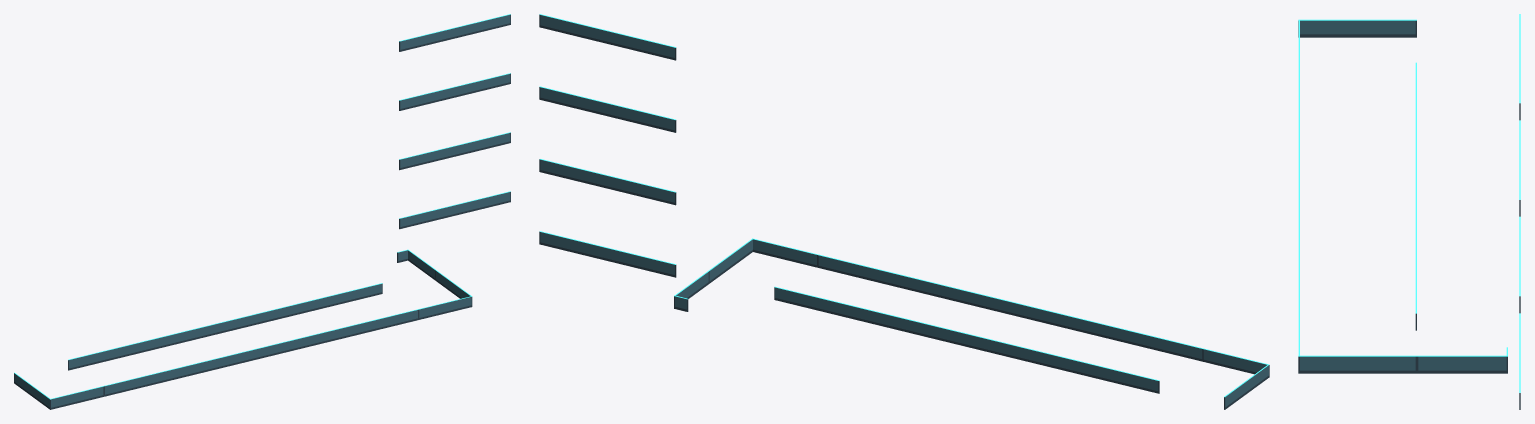
Rendered from v02-detailed-03-07.glb.
The picture shows the model from 3 angles, left to right: view 1: azimuth 30°, elevation 25°; view 2: azimuth 150°, elevation 25°; view 3: azimuth 270°, elevation 25°; orthographic projection. The views are drawn at different scales.
Visible parts, largest first — view 1: v02-detailed-03-07; view 2: v02-detailed-03-07; view 3: v02-detailed-03-07.
Part boxes in pixels (<box>): v02-detailed-03-07: <box>14,14,510,409</box>; v02-detailed-03-07: <box>539,14,1269,409</box>; v02-detailed-03-07: <box>1298,14,1520,409</box>.
Bounding box in the file's own units: 58.8 × 23.13 × 13.11.
